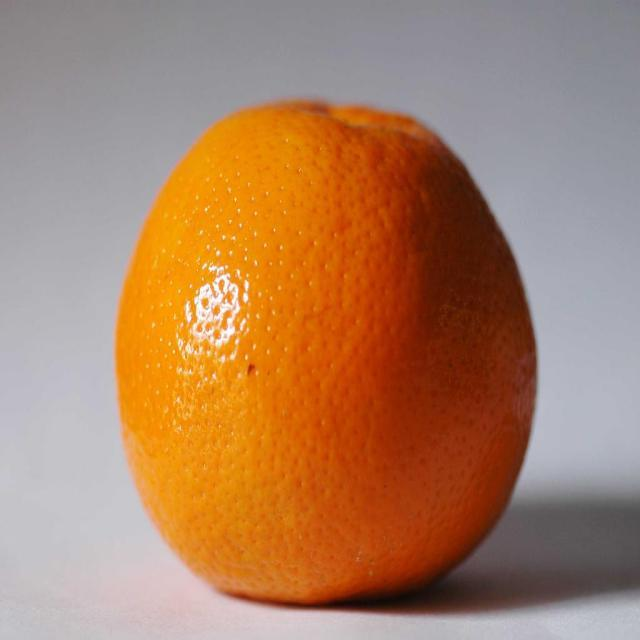Orange: (114, 101, 538, 608)
